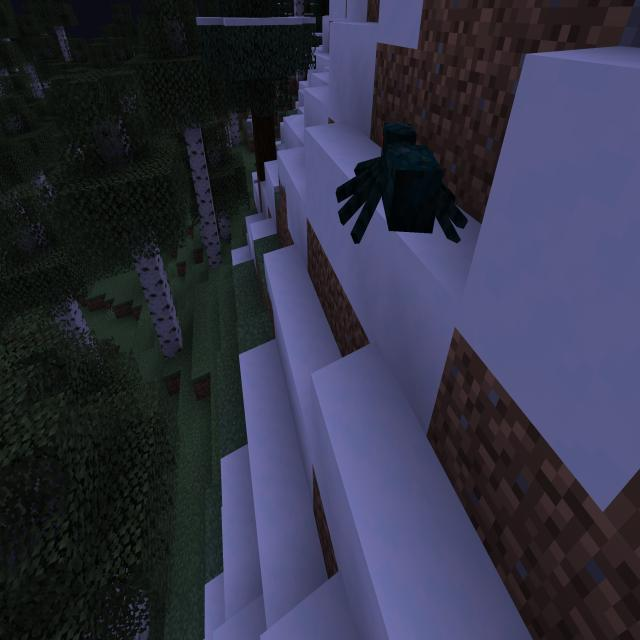Cave Spider: (334, 119, 470, 248)
